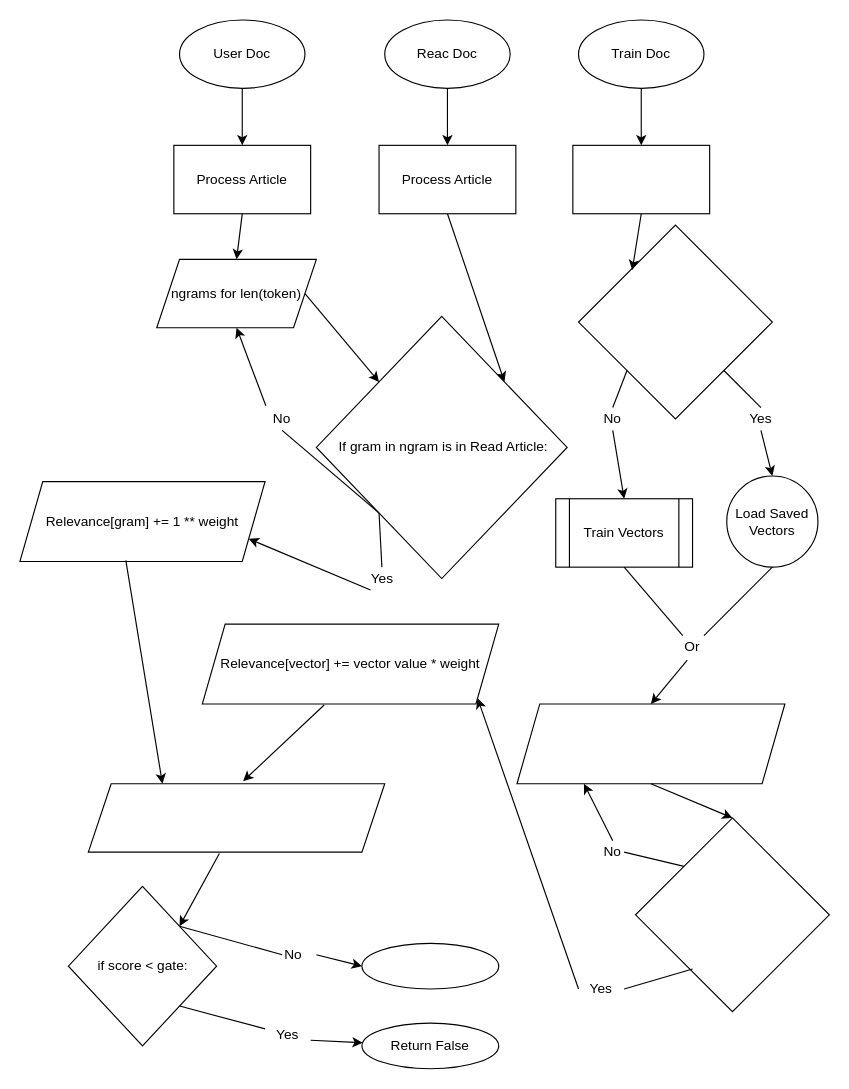
The diagram is 849 pixels wide and 1089 high, and some of its shapes have lost their labels. Here are the shapes that lost their labels. From the top down, the box of each, then its label:
(572, 144, 710, 214): Full Tokenize
(577, 224, 772, 419): If train doc = None
(516, 703, 785, 784): Find similar word vectors
(87, 783, 385, 852): score = SUM(Relevance)/LEN(user article)
(634, 817, 829, 1012): If vector is in read article:
(361, 942, 499, 989): Return True
